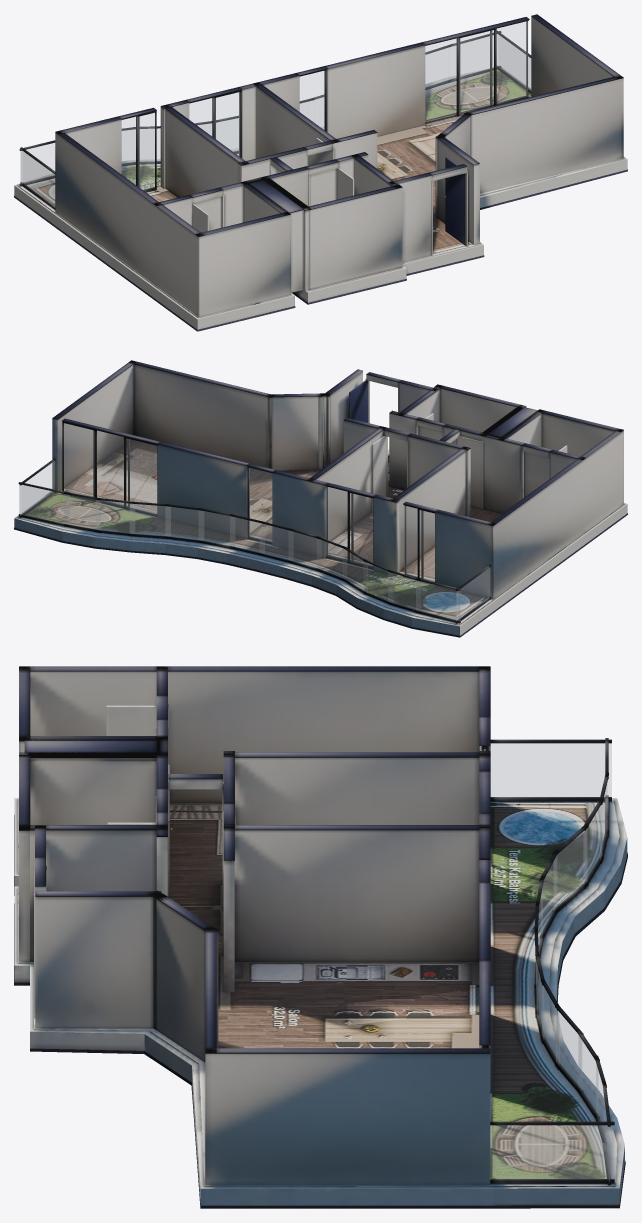
3 views of the same model, one above another, from view 1: azimuth 30°, elevation 25°; view 2: azimuth 150°, elevation 25°; view 3: azimuth 270°, elevation 25° (orthographic). The views are drawn at different scales.
Parts seen in each view (by area): view 1: plan, glass3_m, glass0_m, glass1_m, glass2_m, railg1_m, railg15_m, railg2_m, railg0_m, railg14_m, railg5_m, railg7_m; view 2: plan, glass3_m, glass1_m, glass0_m, railg15_m, glass2_m, railg2_m, railg12_m, railg11_m, railg13_m, railg14_m, railg10_m (+9 smaller); view 3: plan, railg0_m, railg1_m, railg5_m, railg12_m, railg13_m, railg4_m, railg11_m, railg6_m.
Part boxes in pixels (box(x1,y1,x2,y2)): plan: box(14, 14, 627, 331); glass3_m: box(425, 21, 527, 121); glass0_m: box(122, 113, 154, 189); glass1_m: box(189, 92, 239, 156); glass2_m: box(300, 71, 324, 129); railg1_m: box(21, 151, 54, 206); railg15_m: box(454, 34, 497, 78); railg2_m: box(20, 143, 54, 183); railg0_m: box(498, 35, 530, 90); railg14_m: box(426, 48, 448, 86); railg5_m: box(140, 128, 160, 161); railg7_m: box(217, 118, 238, 151); plan: box(14, 360, 627, 637); glass3_m: box(64, 423, 156, 513); glass1_m: box(326, 487, 372, 566); glass0_m: box(404, 506, 434, 581); railg15_m: box(19, 484, 69, 524); glass2_m: box(249, 468, 271, 541); railg2_m: box(416, 580, 460, 620); railg12_m: box(130, 504, 170, 536); railg11_m: box(165, 506, 203, 540); railg13_m: box(96, 500, 134, 533); railg14_m: box(64, 494, 100, 530); railg10_m: box(199, 510, 234, 546); plan: box(14, 666, 627, 1208); railg0_m: box(490, 1125, 614, 1179); railg1_m: box(491, 743, 611, 797); railg5_m: box(554, 828, 587, 909); railg12_m: box(556, 1009, 581, 1090); railg13_m: box(578, 1035, 597, 1115); railg4_m: box(583, 805, 601, 884); railg11_m: box(542, 985, 559, 1064); railg6_m: box(541, 856, 556, 935).
Size of the model in its own units: 14.34 by 2.62 by 9.52.
Materials: 2 (1 with a texture image).
